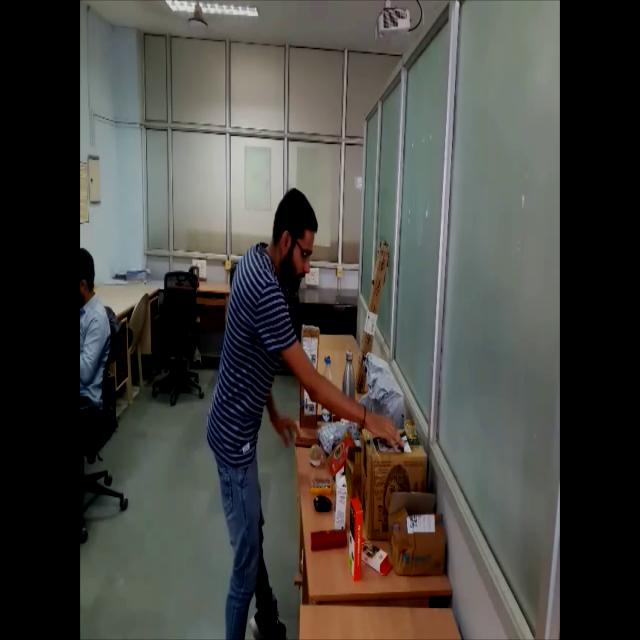normal: (205, 194, 349, 640)
